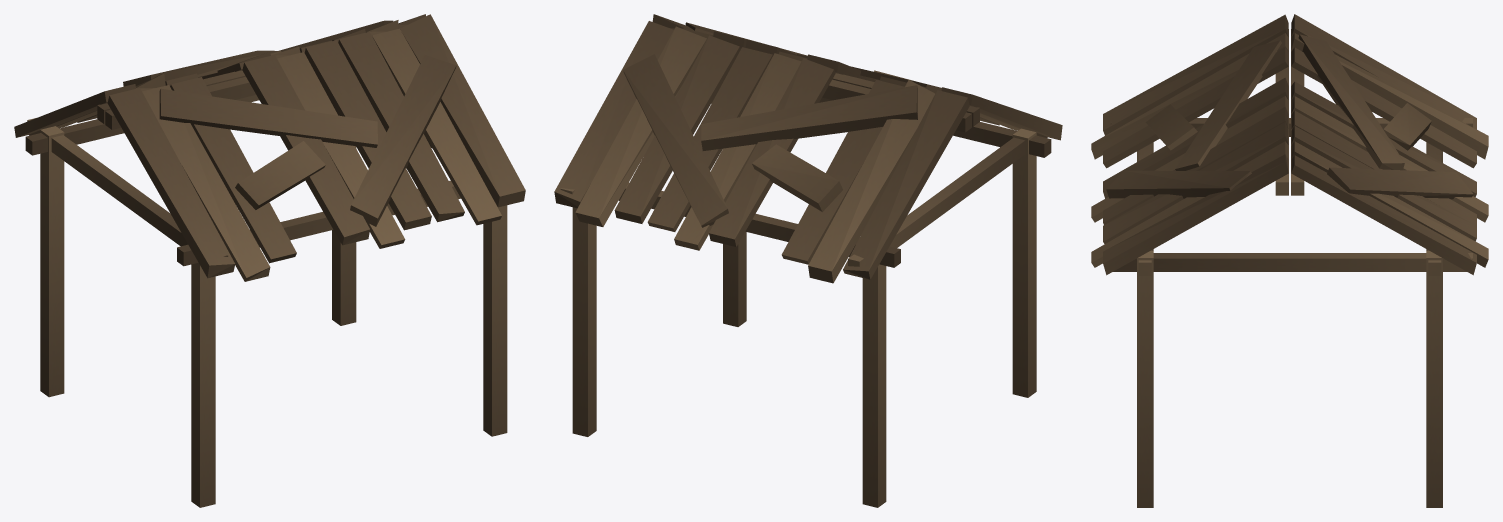
Rendered from ZLP_Build_D_11.FBX.
3 renders of one model, left to right at view 1: azimuth 30°, elevation 25°; view 2: azimuth 150°, elevation 25°; view 3: azimuth 270°, elevation 25°, orthographic. The views are drawn at different scales.
Parts seen in each view (by area): view 1: ZLP_Build_D_11; view 2: ZLP_Build_D_11; view 3: ZLP_Build_D_11.
Part boxes in pixels (bbox=[...]): ZLP_Build_D_11: bbox=[14, 14, 525, 507]; ZLP_Build_D_11: bbox=[554, 14, 1062, 507]; ZLP_Build_D_11: bbox=[1091, 14, 1488, 507].
Size of the model in its own units: 163 by 172 by 179.
